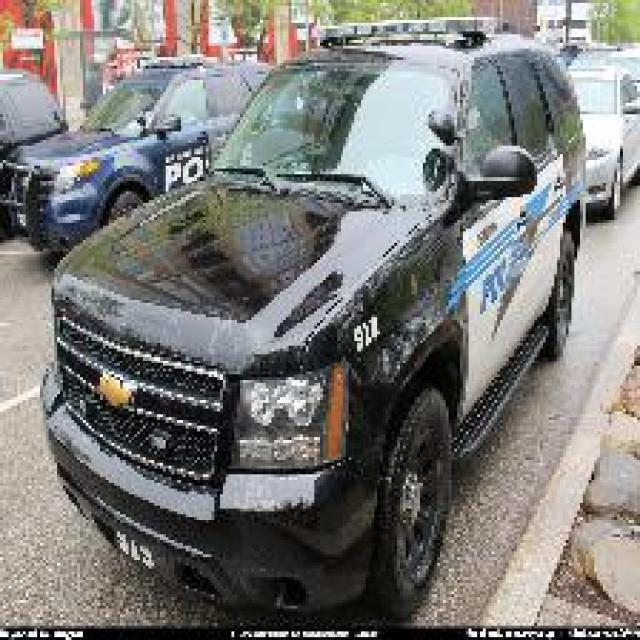emergency: (33, 15, 589, 611), (4, 50, 288, 250)
